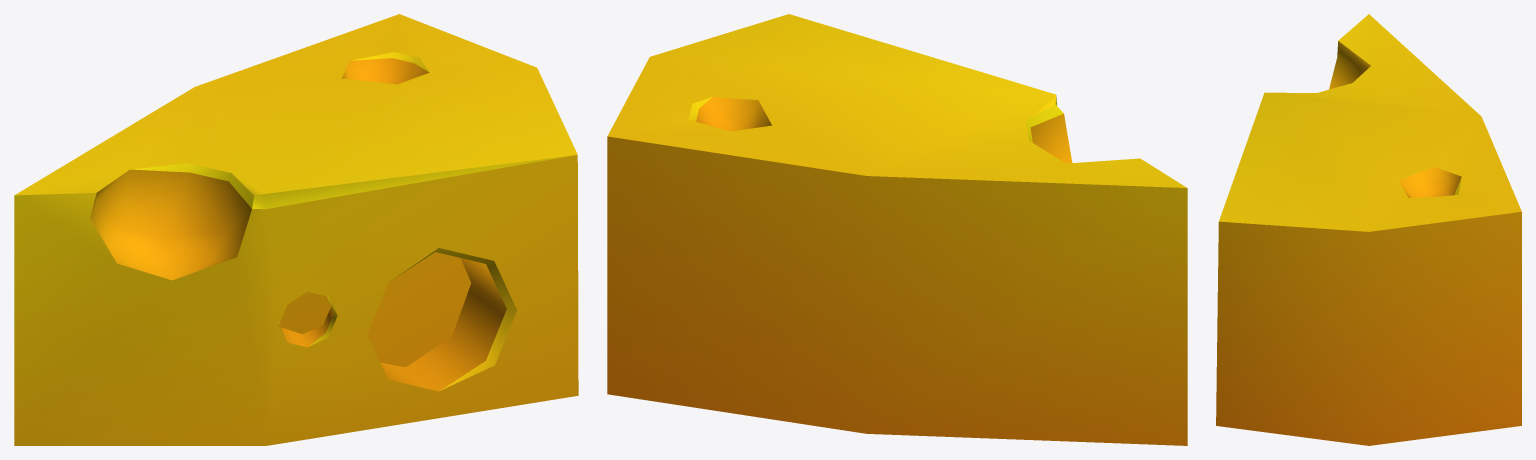
Rendered from cheese.glb.
The picture shows the model from 3 angles, left to right: view 1: azimuth 30°, elevation 25°; view 2: azimuth 150°, elevation 25°; view 3: azimuth 270°, elevation 25°; orthographic projection. The views are drawn at different scales.
Visible parts, largest first — view 1: cheese; view 2: cheese; view 3: cheese.
Part boxes in pixels (bbox=[...]): cheese: bbox=[14, 14, 578, 445]; cheese: bbox=[607, 14, 1187, 445]; cheese: bbox=[1216, 14, 1521, 445].
Bounding box in the file's own units: 0.6597 × 0.3047 × 0.3914.
Materials: 1 (1 with a texture image).
